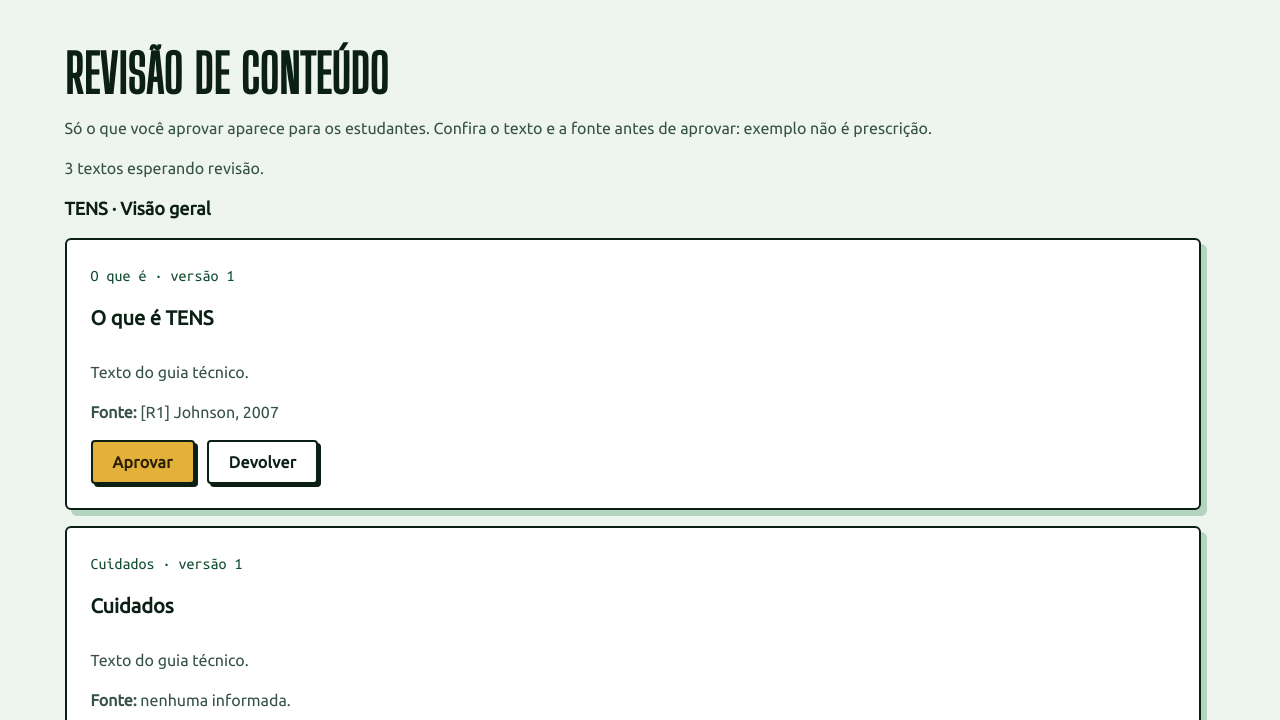
it: deveMostrarAExplicacaoDaApiQuandoOAutorTentaAprovar
This screenshot has width=1280, height=720.
Click the button with aria-label "Aprovar O que é TENS" at (143, 462), box [90,440,195,484]
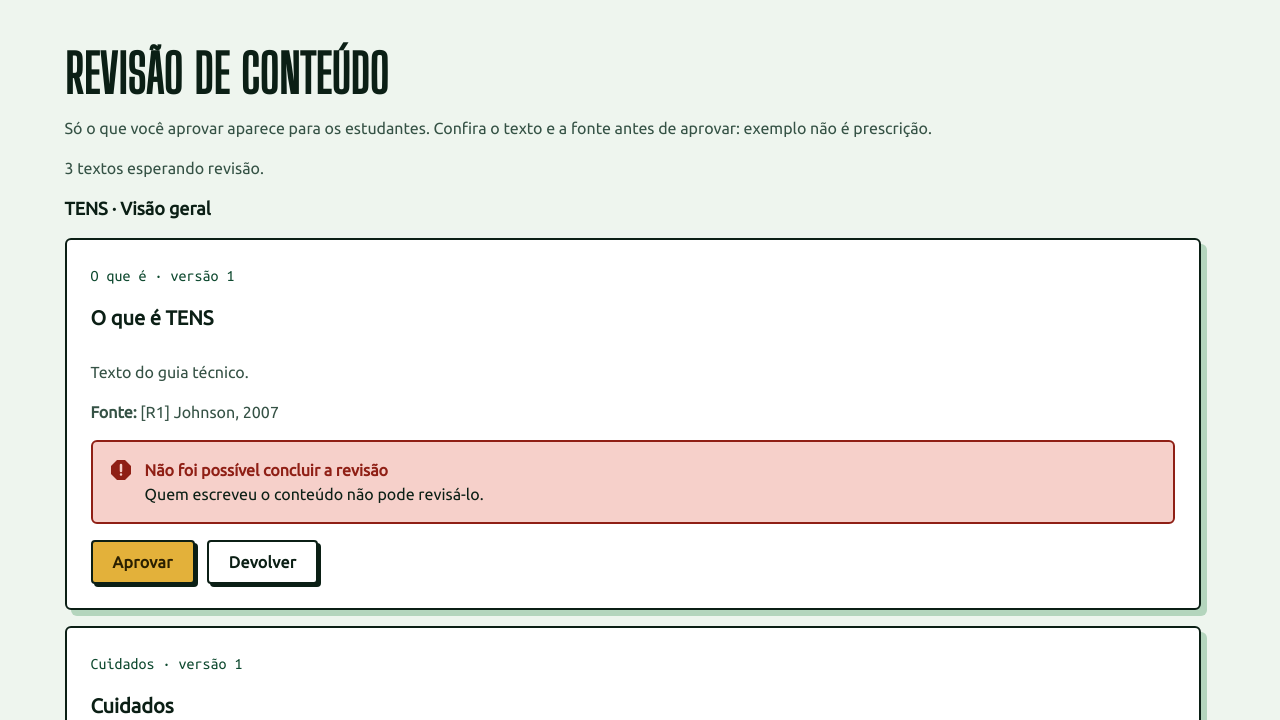
Expected: the button with aria-label "Aprovar O que é TENS" is enabled, [90,540,195,584]
Result: the text "Quem escreveu o conteúdo não pode revisá-lo." is shown at [144,485,484,503]
